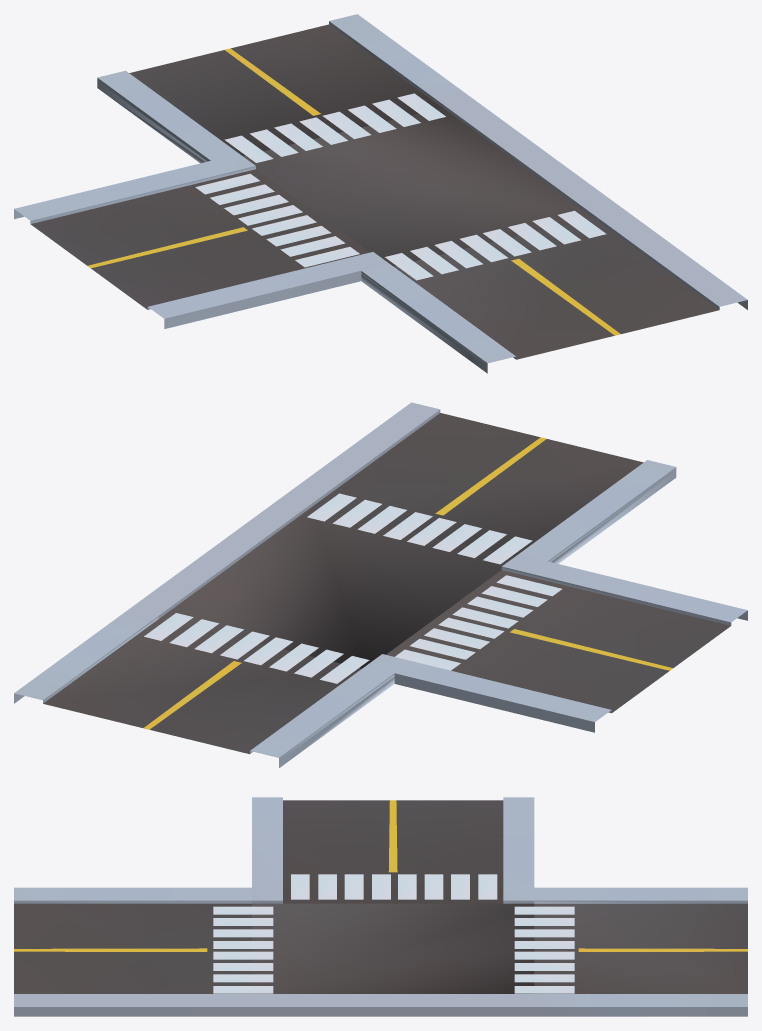
File: road1.fbx
The picture shows the model from 3 angles, top to bottom: view 1: azimuth 30°, elevation 25°; view 2: azimuth 150°, elevation 25°; view 3: azimuth 270°, elevation 25°; orthographic projection. The views are drawn at different scales.
Visible parts, largest first — view 1: Roads1; view 2: Roads1; view 3: Roads1.
Part boxes in pixels (x1,y1,x2,y2): Roads1: [14, 14, 747, 373]; Roads1: [14, 402, 747, 767]; Roads1: [14, 797, 747, 1016].
Size of the model in its own units: 855 by 18.71 by 1265.
